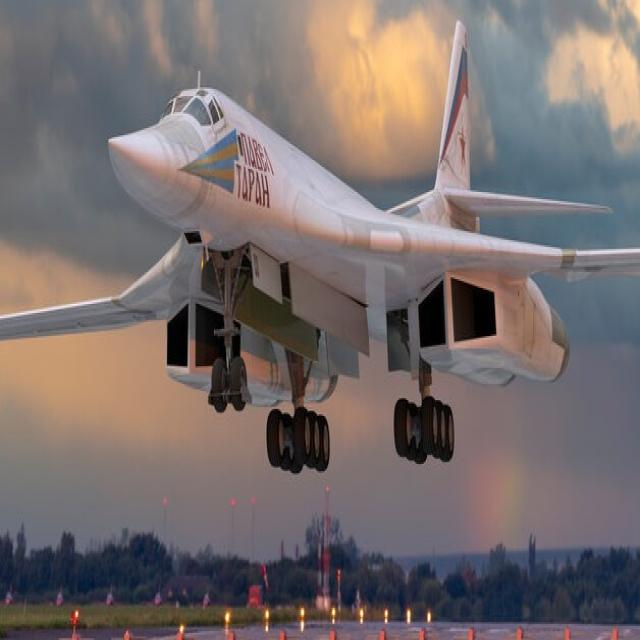Tu160: (4, 15, 638, 551)
